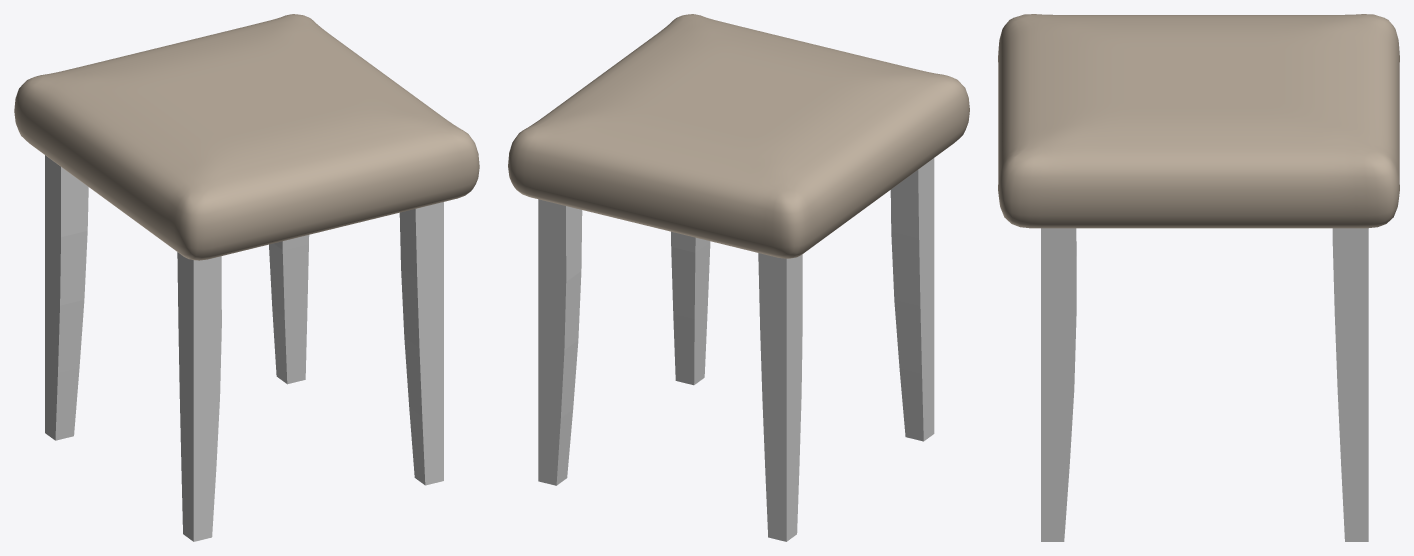
The model's file is Tabouret6_4.fbx.
3 views of the same model, side by side, from view 1: azimuth 30°, elevation 25°; view 2: azimuth 150°, elevation 25°; view 3: azimuth 270°, elevation 25° (orthographic). The views are drawn at different scales.
Parts seen in each view (by area): view 1: pCube2647, polySurface996, polySurface994, polySurface995, polySurface993; view 2: pCube2647, polySurface995, polySurface993, polySurface996, polySurface994; view 3: pCube2647, polySurface994, polySurface993.
Part boxes in pixels (bbox=[...]): pCube2647: bbox=[14, 14, 479, 260]; polySurface996: bbox=[177, 252, 221, 541]; polySurface994: bbox=[399, 202, 443, 485]; polySurface995: bbox=[45, 155, 88, 440]; polySurface993: bbox=[269, 235, 309, 384]; pCube2647: bbox=[508, 14, 969, 258]; polySurface995: bbox=[758, 253, 802, 541]; polySurface993: bbox=[538, 199, 582, 485]; polySurface996: bbox=[890, 158, 934, 441]; polySurface994: bbox=[671, 231, 710, 385]; pCube2647: bbox=[998, 14, 1399, 228]; polySurface994: bbox=[1041, 228, 1076, 541]; polySurface993: bbox=[1332, 228, 1368, 541].
Size of the model in its own units: 38.55 by 44.75 by 40.86.
